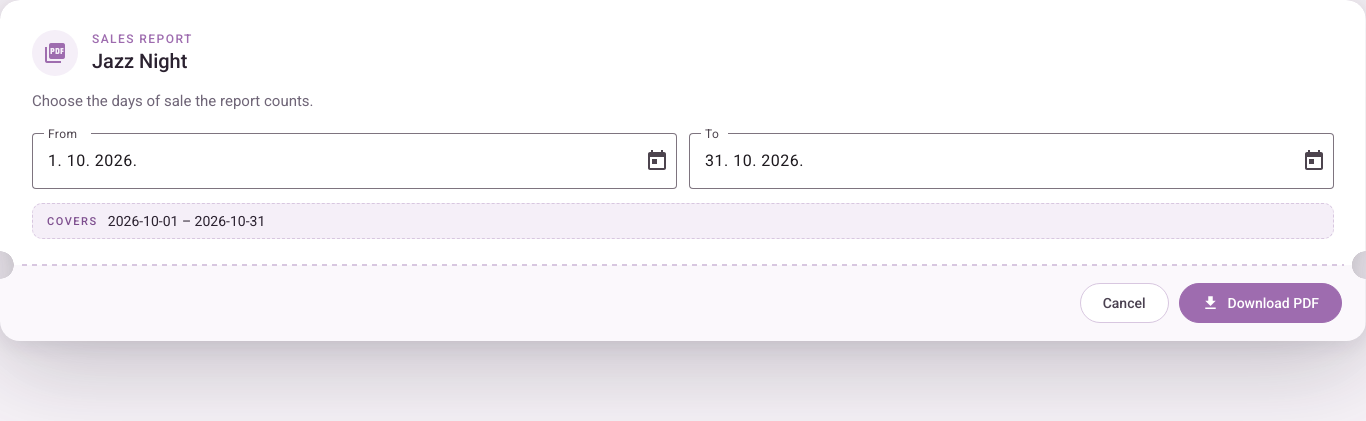
Test case: ReportPeriodDialogComponent › asks for the period, then downloads the report and closes
Click the button with class "ticket__button--confirm": [1260, 303] box [1178, 283, 1342, 323]
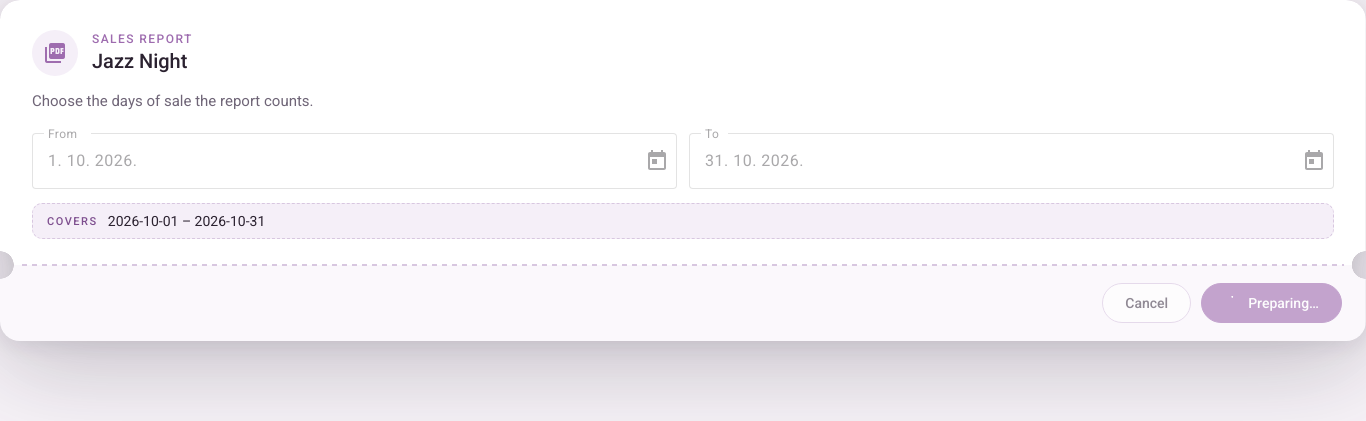
Now the button with class "ticket__button--confirm" is disabled, box [1201, 283, 1342, 323]
